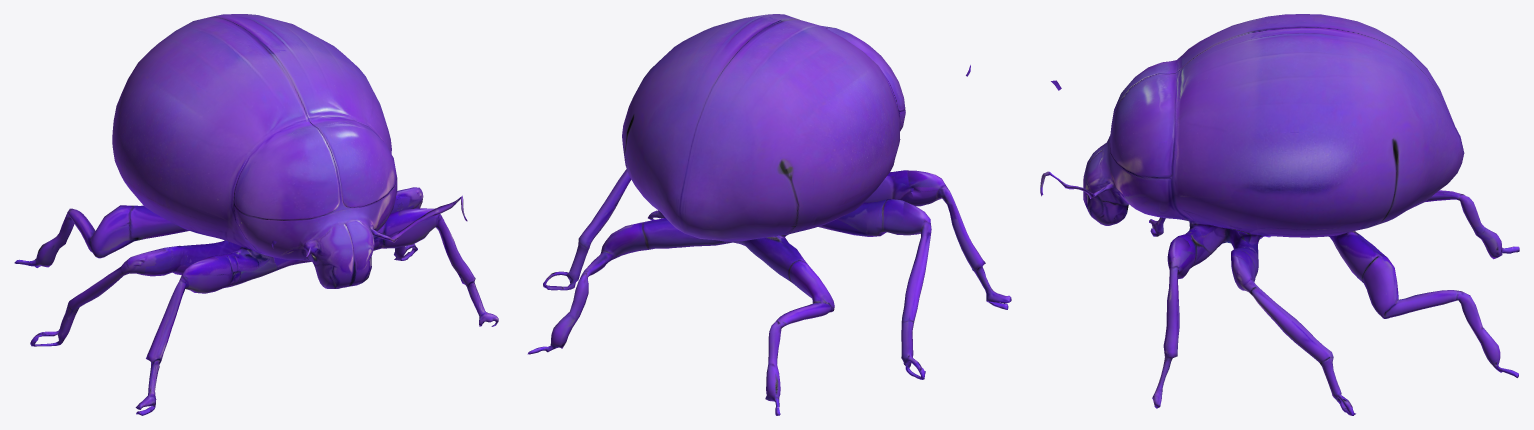
Rendered from Purple_Beetle.glb.
3 renders of one model, left to right at view 1: azimuth 30°, elevation 25°; view 2: azimuth 150°, elevation 25°; view 3: azimuth 270°, elevation 25°, orthographic. The views are drawn at different scales.
Size of the model in its own units: 1.88 by 1.34 by 1.96.
1 material, 1 textured.
